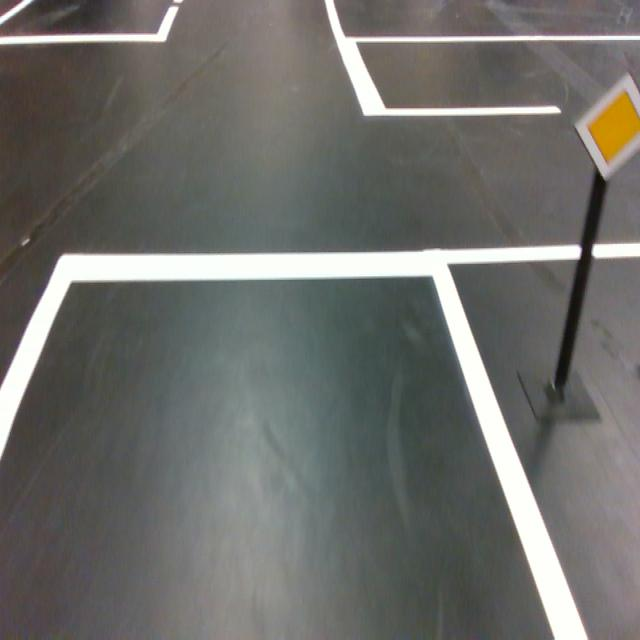priority-sign: (571, 70, 640, 183)
